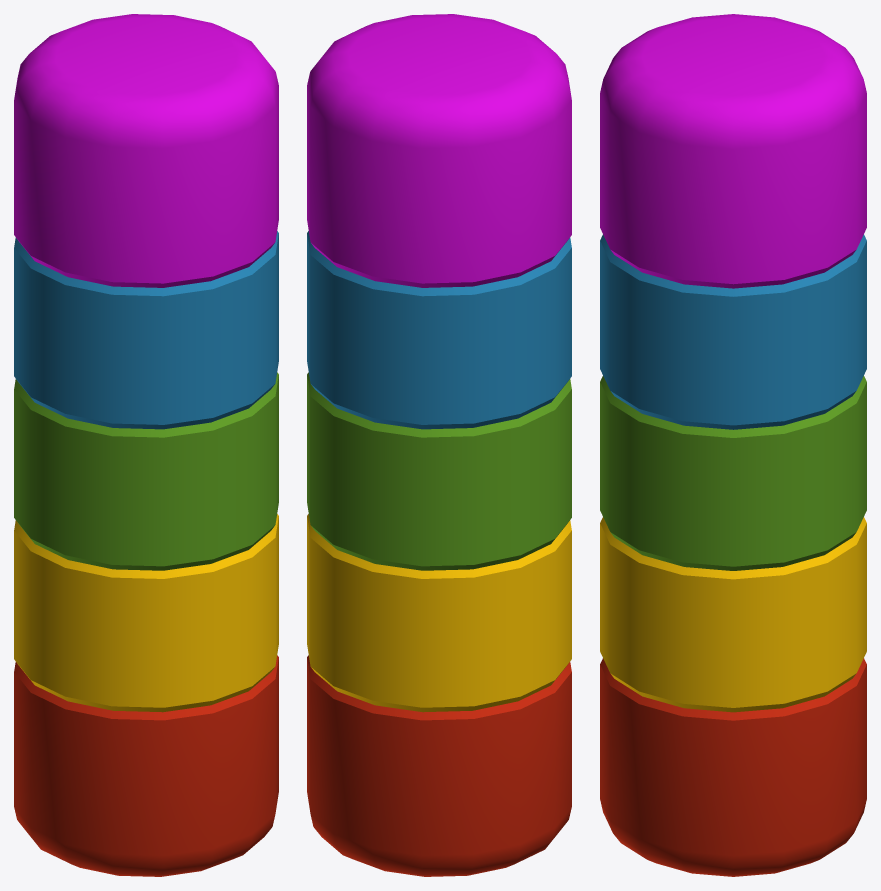
File: Rainbow2.fbx
3 views of the same model, side by side, from view 1: azimuth 30°, elevation 25°; view 2: azimuth 150°, elevation 25°; view 3: azimuth 270°, elevation 25° (orthographic).
Parts seen in each view (by area): view 1: Cylinder.002; view 2: Cylinder.002; view 3: Cylinder.002.
Part boxes in pixels (left/top/right/bottom): Cylinder.002: left=14, top=14, right=278, bottom=876; Cylinder.002: left=307, top=14, right=571, bottom=876; Cylinder.002: left=600, top=14, right=866, bottom=876.
Size of the model in its own units: 0.9359 by 0.9359 by 3.01.
